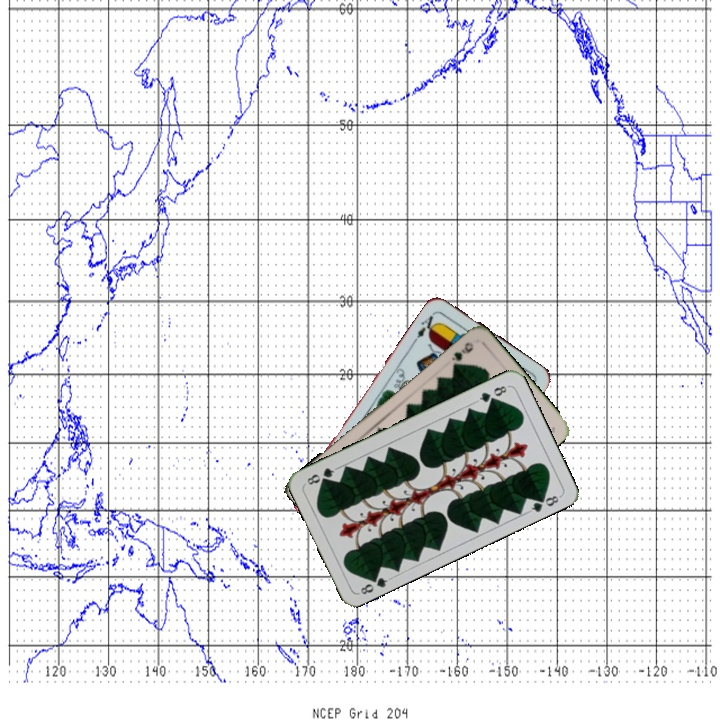EA: (410, 308, 439, 344)
G8: (355, 570, 394, 597), (473, 381, 511, 405)
G9: (448, 338, 476, 364)
